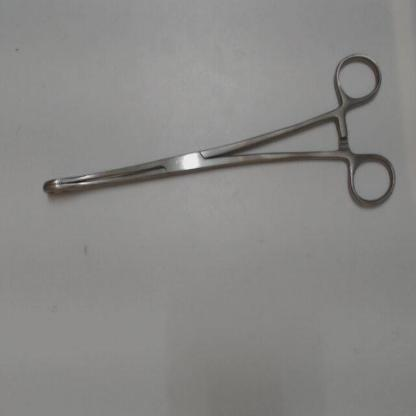Sponge Forceps: (32, 45, 406, 216)
